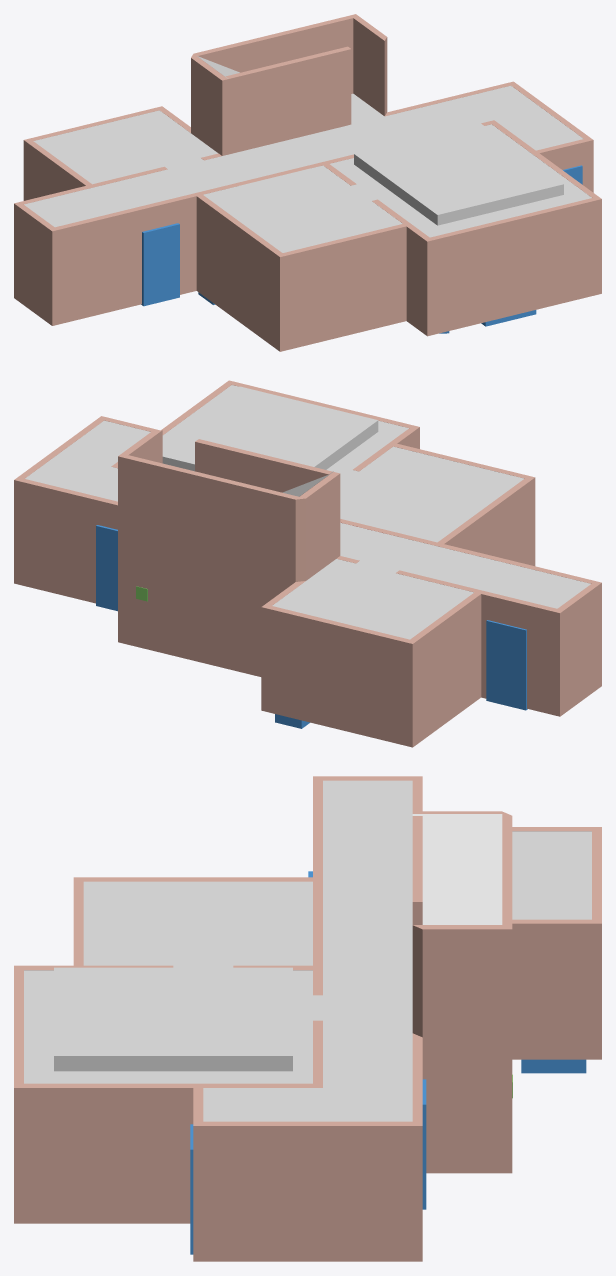
File: greybox.fbx
3 views of the same model, one above another, from view 1: azimuth 30°, elevation 25°; view 2: azimuth 150°, elevation 25°; view 3: azimuth 270°, elevation 25° (orthographic). The views are drawn at different scales.
Visible parts, largest first — view 1: Wall, Ceil, Cube.003; view 2: Wall, Ceil, Cube.002, Cube.001; view 3: Wall, Ceil, Closet, Cube.001.
Boxes of the visible parts, box(x1,y1,x2,y2) form: Wall: box(14, 14, 601, 351); Ceil: box(24, 56, 591, 252); Cube.003: box(141, 223, 179, 306); Wall: box(14, 380, 601, 747); Ceil: box(25, 385, 590, 639); Cube.002: box(486, 620, 527, 710); Cube.001: box(96, 525, 117, 611); Wall: box(14, 776, 601, 1261); Ceil: box(24, 780, 591, 1121); Closet: box(521, 1059, 586, 1073); Cube.001: box(422, 1079, 426, 1209).
Bounding box in the file's own units: 1960 × 980 × 2757.
